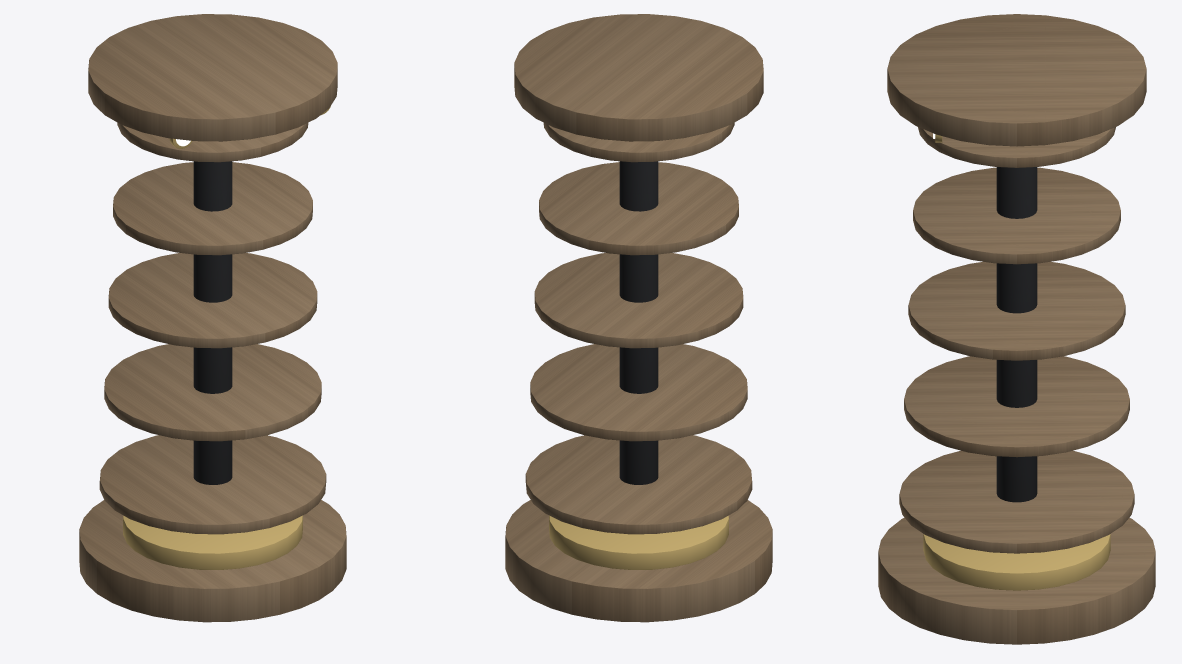
The model's file is pf_display_rotating_display_t3.glb.
3 renders of one model, left to right at view 1: azimuth 30°, elevation 25°; view 2: azimuth 150°, elevation 25°; view 3: azimuth 270°, elevation 25°, orthographic. The views are drawn at different scales.
Parts seen in each view (by area): view 1: Rotor_Canopy, Stationary_Base, Rotor_Deck_01, Rotor_Deck_02, Rotor_Deck_03, Rotor_Deck_04, Rotor_Column, Turntable_Bearing, Rotor_Deck_05; view 2: Rotor_Canopy, Stationary_Base, Rotor_Deck_01, Rotor_Deck_02, Rotor_Deck_03, Rotor_Deck_04, Rotor_Column, Turntable_Bearing, Rotor_Deck_05; view 3: Rotor_Canopy, Stationary_Base, Rotor_Deck_01, Rotor_Deck_02, Rotor_Deck_03, Rotor_Deck_04, Rotor_Column, Turntable_Bearing, Rotor_Deck_05.
Part boxes in pixels (x1,y1,x2,y2): Rotor_Canopy: (88, 14, 337, 141); Stationary_Base: (79, 500, 346, 622); Rotor_Deck_01: (99, 435, 326, 534); Rotor_Deck_02: (104, 344, 321, 441); Rotor_Deck_03: (108, 253, 317, 348); Rotor_Deck_04: (113, 162, 312, 255); Rotor_Column: (193, 161, 232, 484); Turntable_Bearing: (123, 515, 302, 569); Rotor_Deck_05: (117, 122, 308, 162); Rotor_Canopy: (514, 14, 763, 141); Stationary_Base: (505, 500, 772, 622); Rotor_Deck_01: (525, 435, 752, 534); Rotor_Deck_02: (530, 344, 747, 441); Rotor_Deck_03: (534, 253, 743, 348); Rotor_Deck_04: (539, 162, 738, 255); Rotor_Column: (619, 161, 658, 484); Turntable_Bearing: (549, 515, 728, 569); Rotor_Deck_05: (543, 122, 734, 162); Rotor_Canopy: (887, 14, 1146, 146); Stationary_Base: (878, 517, 1155, 644); Rotor_Deck_01: (899, 450, 1134, 553); Rotor_Deck_02: (904, 356, 1129, 457); Rotor_Deck_03: (908, 261, 1125, 360); Rotor_Deck_04: (913, 167, 1120, 264); Rotor_Column: (996, 167, 1037, 502); Turntable_Bearing: (923, 534, 1110, 590); Rotor_Deck_05: (918, 127, 1115, 167).
Size of the model in its own units: 0.94 by 1.78 by 0.94.
Materials: 5 (2 with a texture image).
